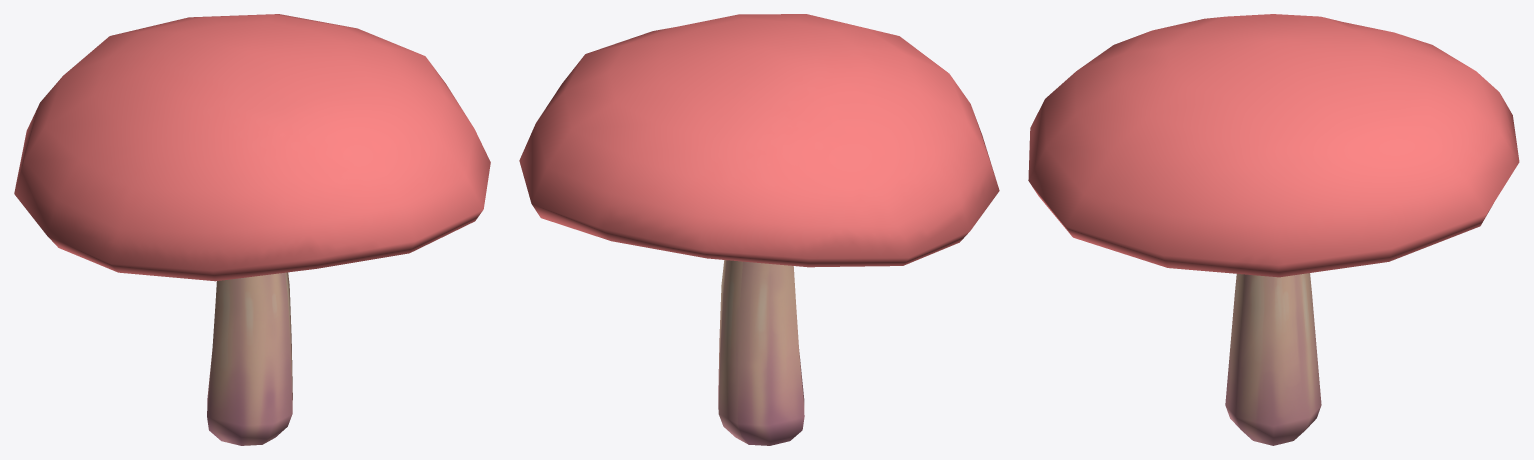
Rendered from MD_mushroom_Nomal_S.fbx.
3 views of the same model, side by side, from view 1: azimuth 30°, elevation 25°; view 2: azimuth 150°, elevation 25°; view 3: azimuth 270°, elevation 25° (orthographic).
Parts seen in each view (by area): view 1: mushroom_Nomal_S1; view 2: mushroom_Nomal_S1; view 3: mushroom_Nomal_S1.
Part boxes in pixels (x1,y1,x2,y2): mushroom_Nomal_S1: (14, 14, 490, 445); mushroom_Nomal_S1: (519, 14, 999, 445); mushroom_Nomal_S1: (1028, 14, 1519, 445).
Size of the model in its own units: 870 by 765 by 873.
1 material, 1 textured.
